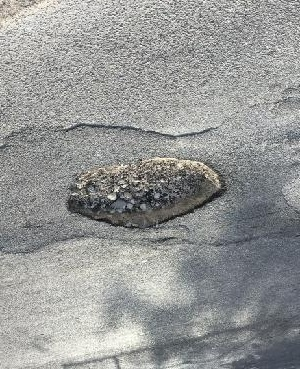pothole: (64, 156, 230, 233)
